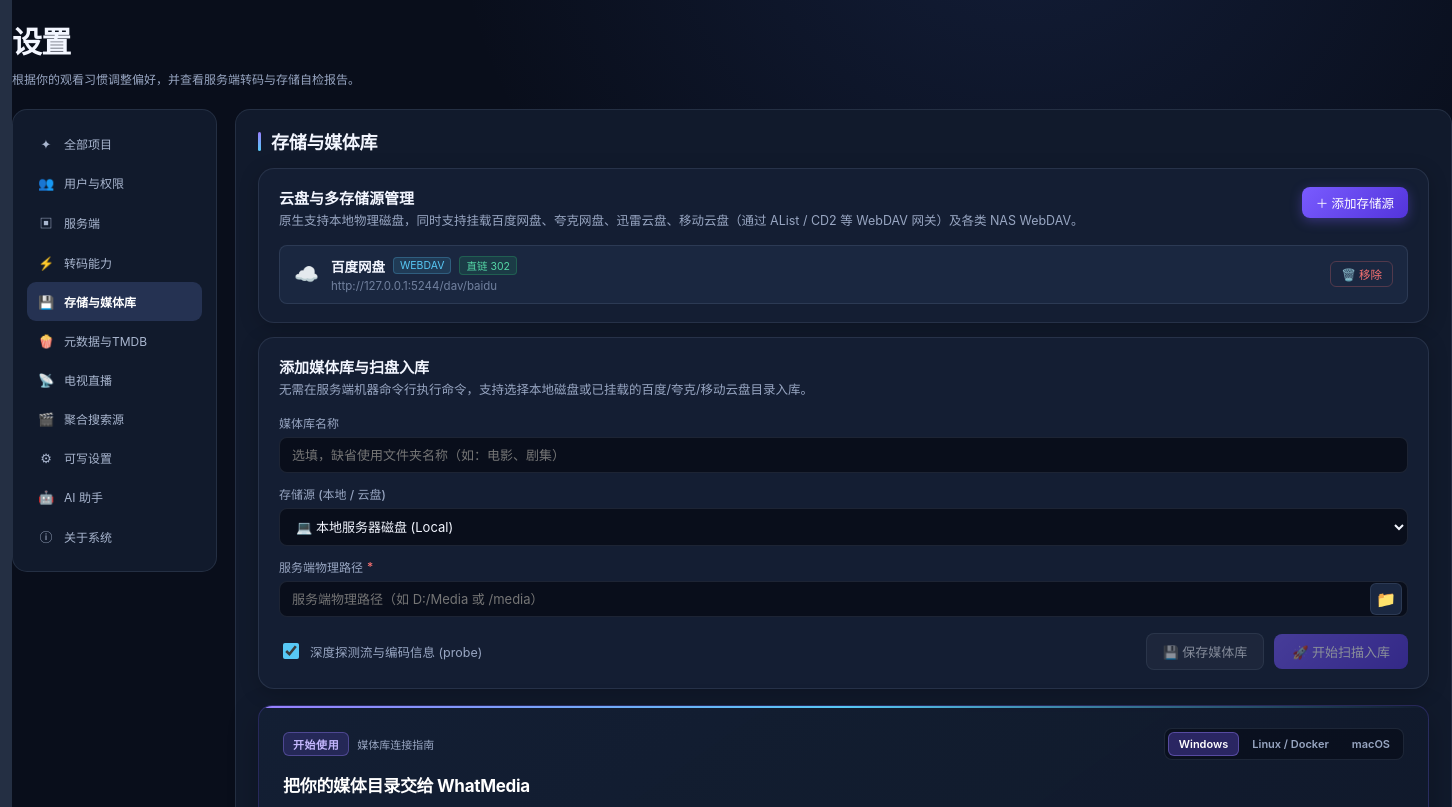
Scenario: SettingsView › 输入路径后点击开始扫描可提交后台扫描入库任务
Type "D:/Media/Movies" into the field with placeholder "服务端物理路径（如 D:/Media 或 /media）".
click(844, 598); type("D:/Media/Movies")  # box [279, 580, 1408, 616]
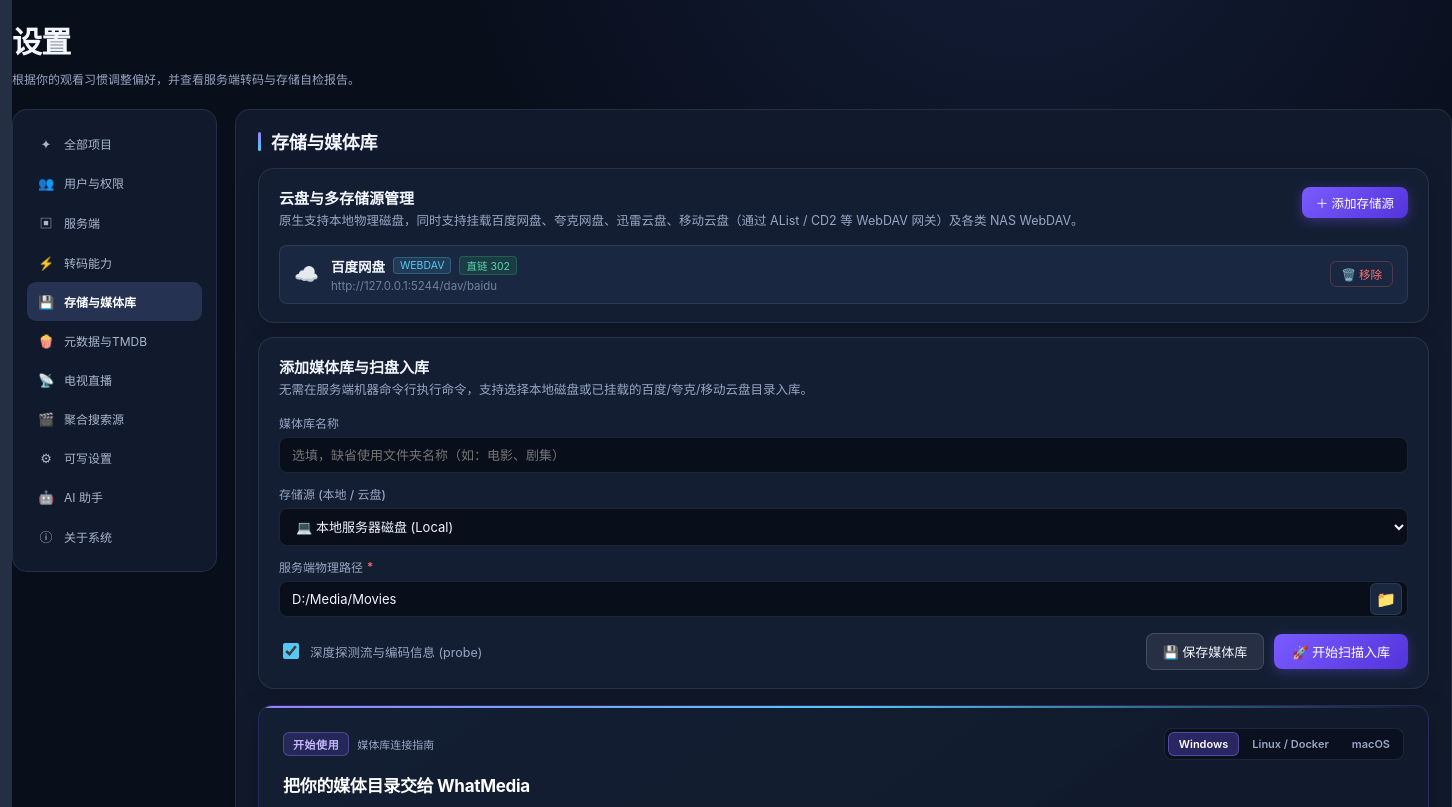
Click the button with class "btn-start-scan".
click(1341, 651)  # box [1274, 634, 1408, 668]
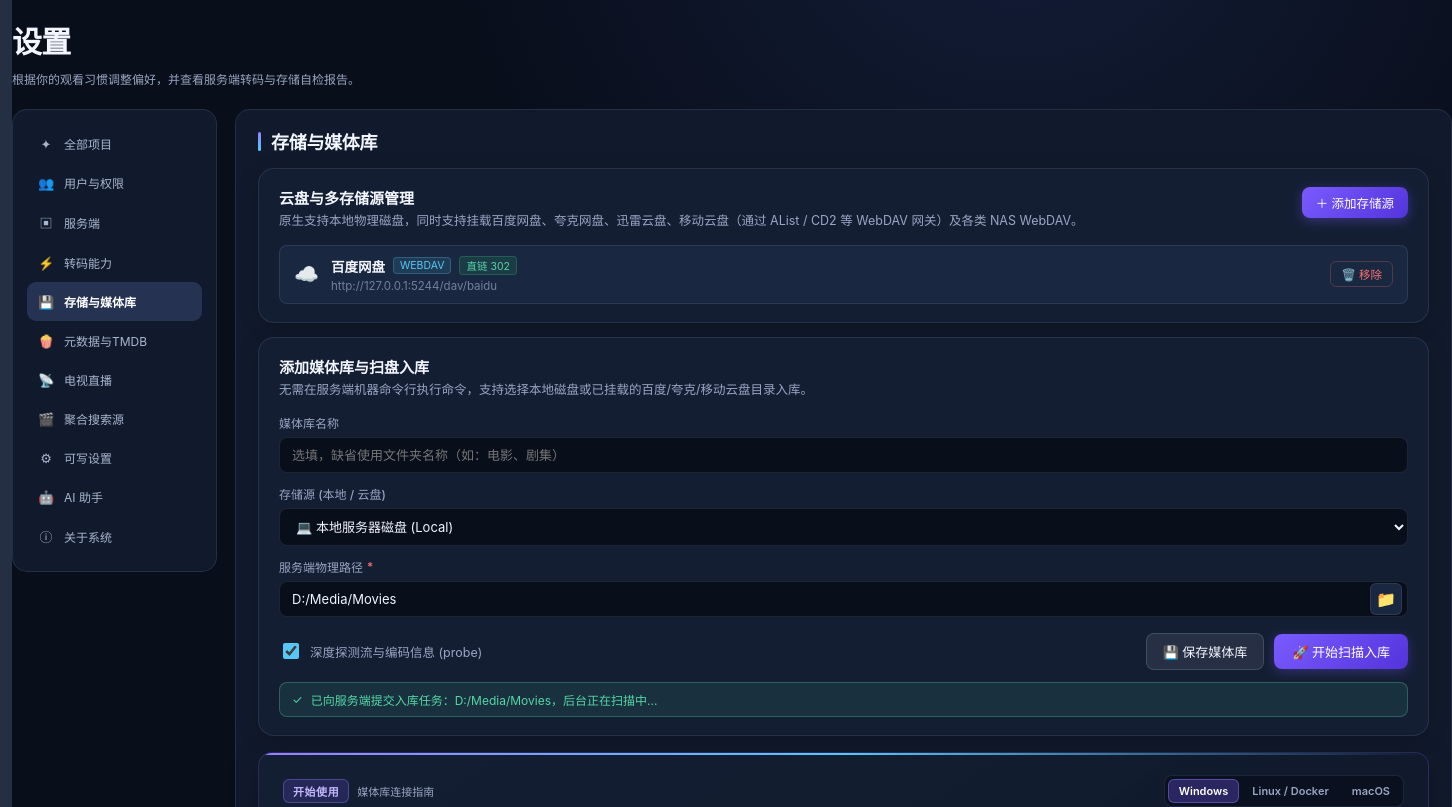
Check: the text "已向服务端提交入库任务" is shown, box [311, 692, 657, 708]
